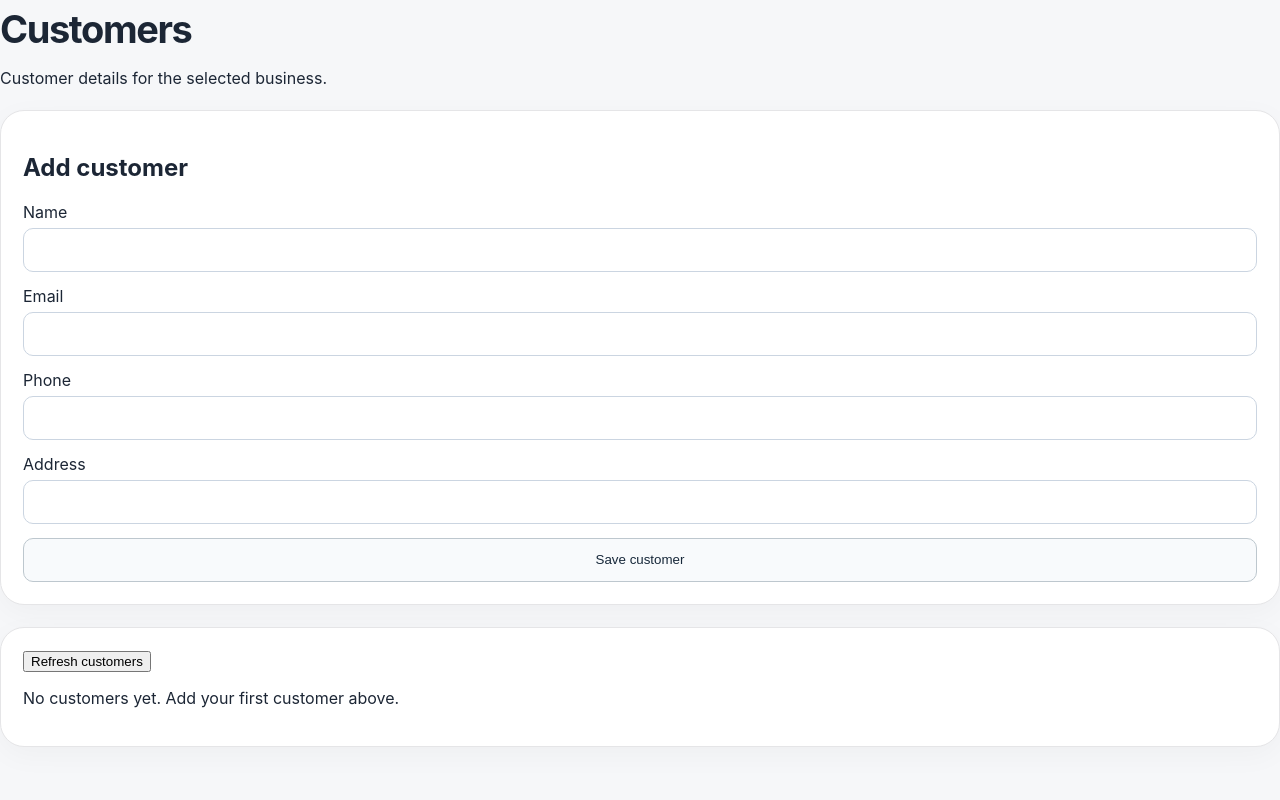
Scenario: customer form persists details, retains failures and supports editing and archiving
Expected: the text "No customers yet. Add your first customer above." is shown, [23,688,399,708]
In the field labelled "Name": (640, 250) [23,228,1257,272], type "Alex Taylor"
In the field labelled "Email": (640, 334) [23,312,1257,356], type "alex@example.com"
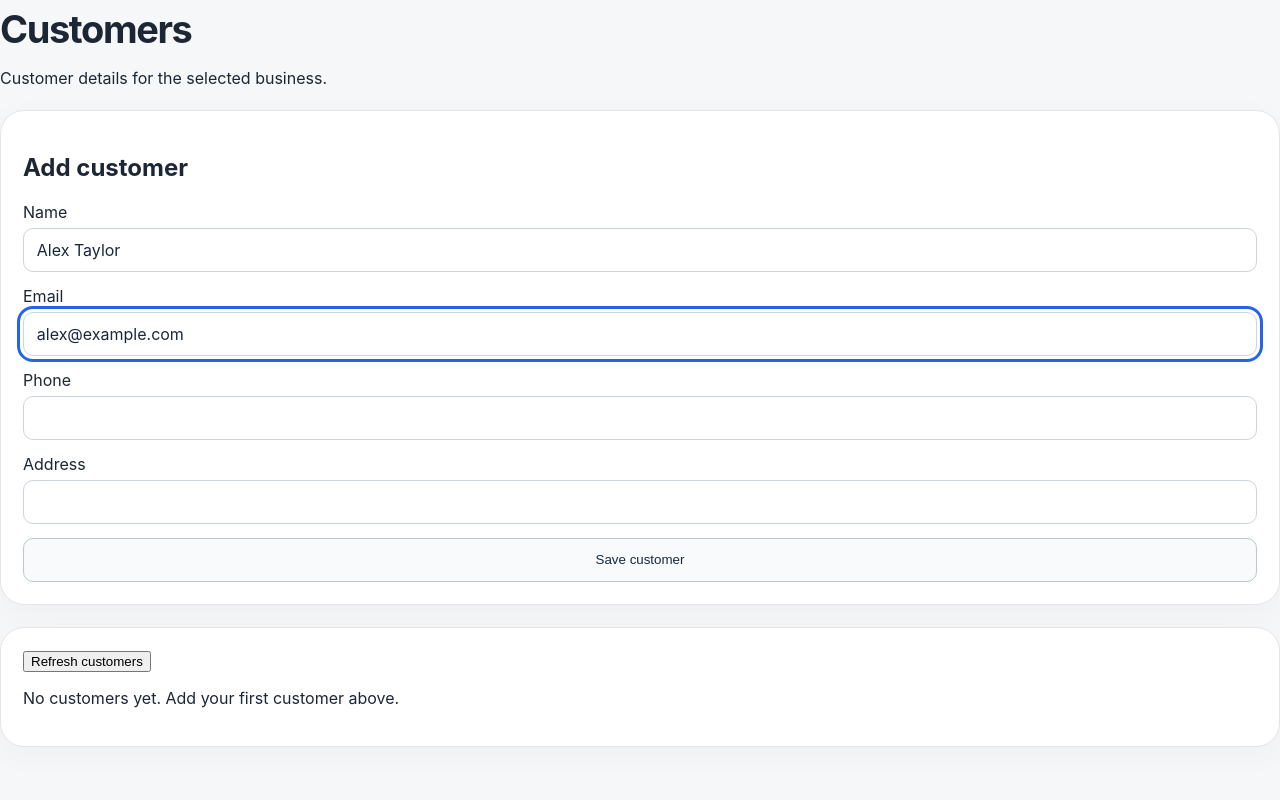
Click the button "Save customer": (640, 560) [23,538,1257,582]
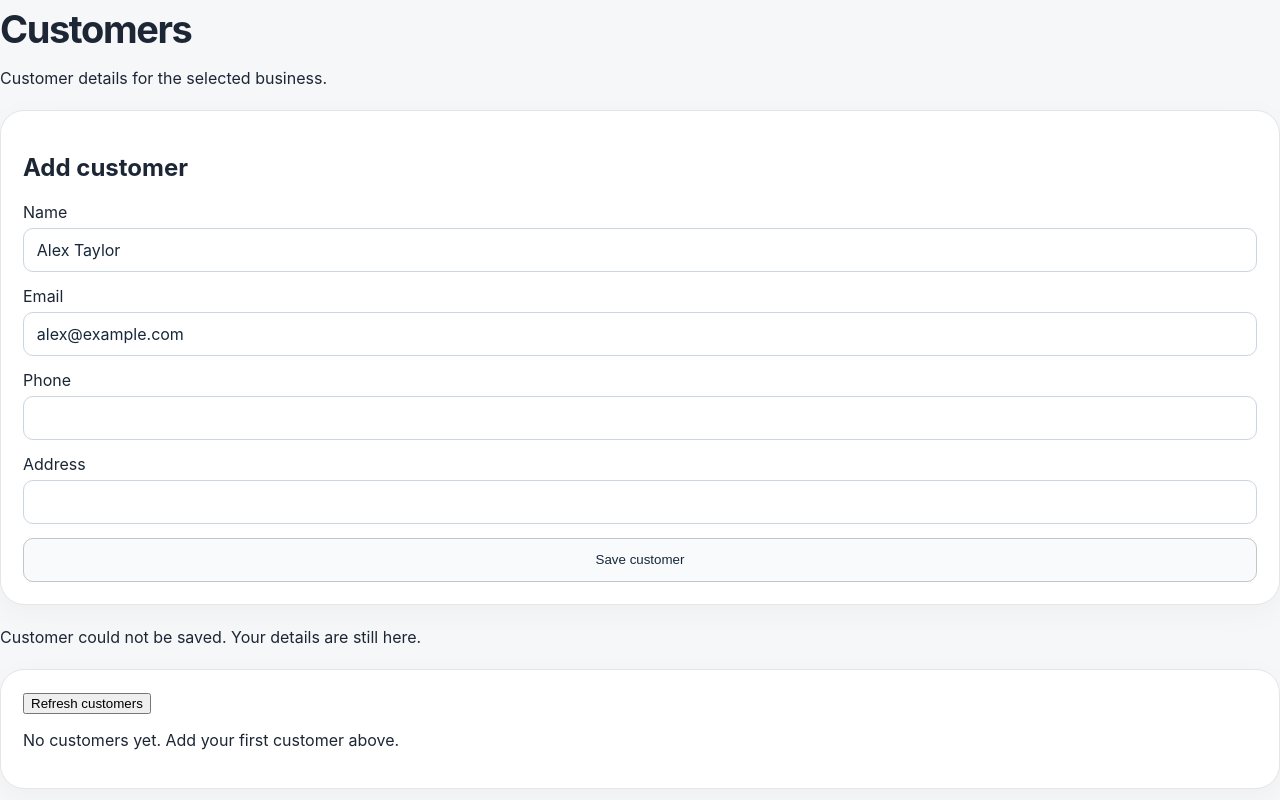
Result: the text "Customer could not be saved. Your details are still here." is shown at [0,627,421,647]
Click the button "Save customer": (640, 560) [23,538,1257,582]
(page scrolled)
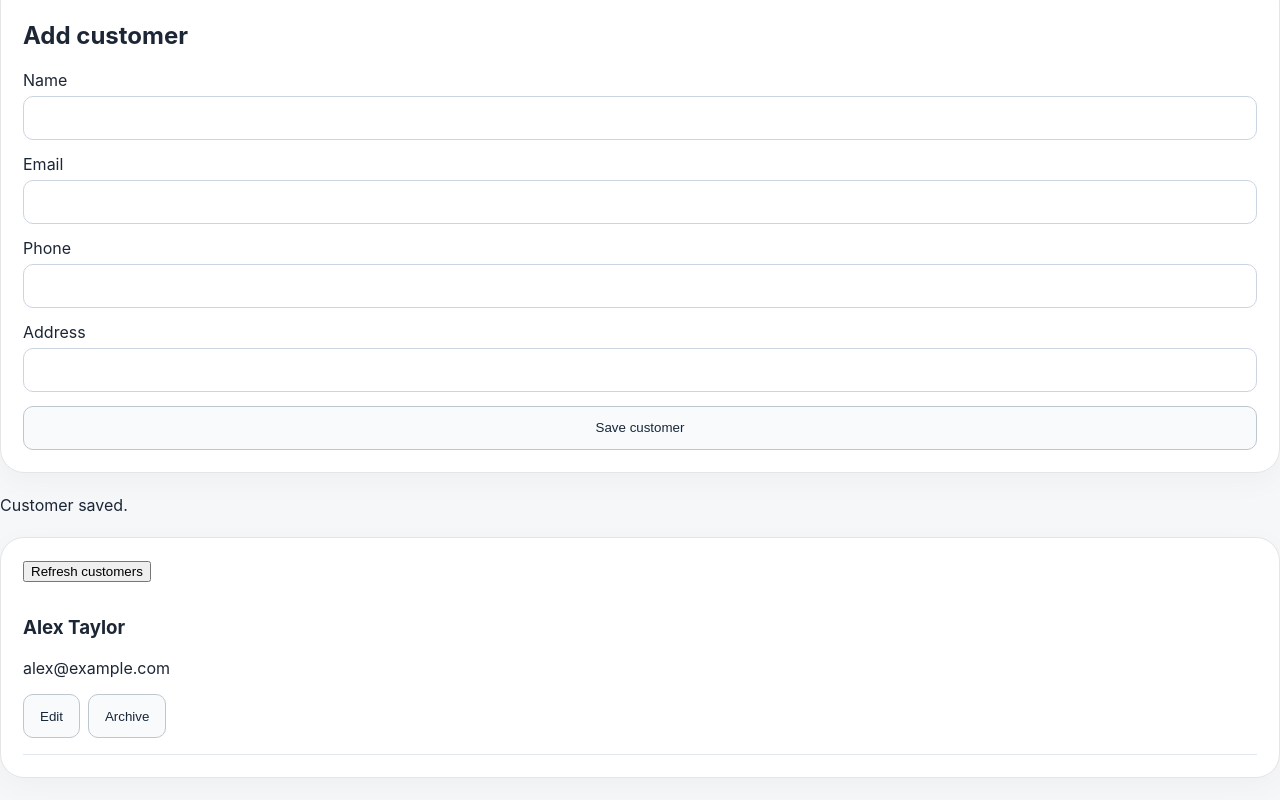
Result: the heading "Alex Taylor" is shown at [23,616,125,640]
Click the button "Edit": (52, 716) [23,694,80,738]
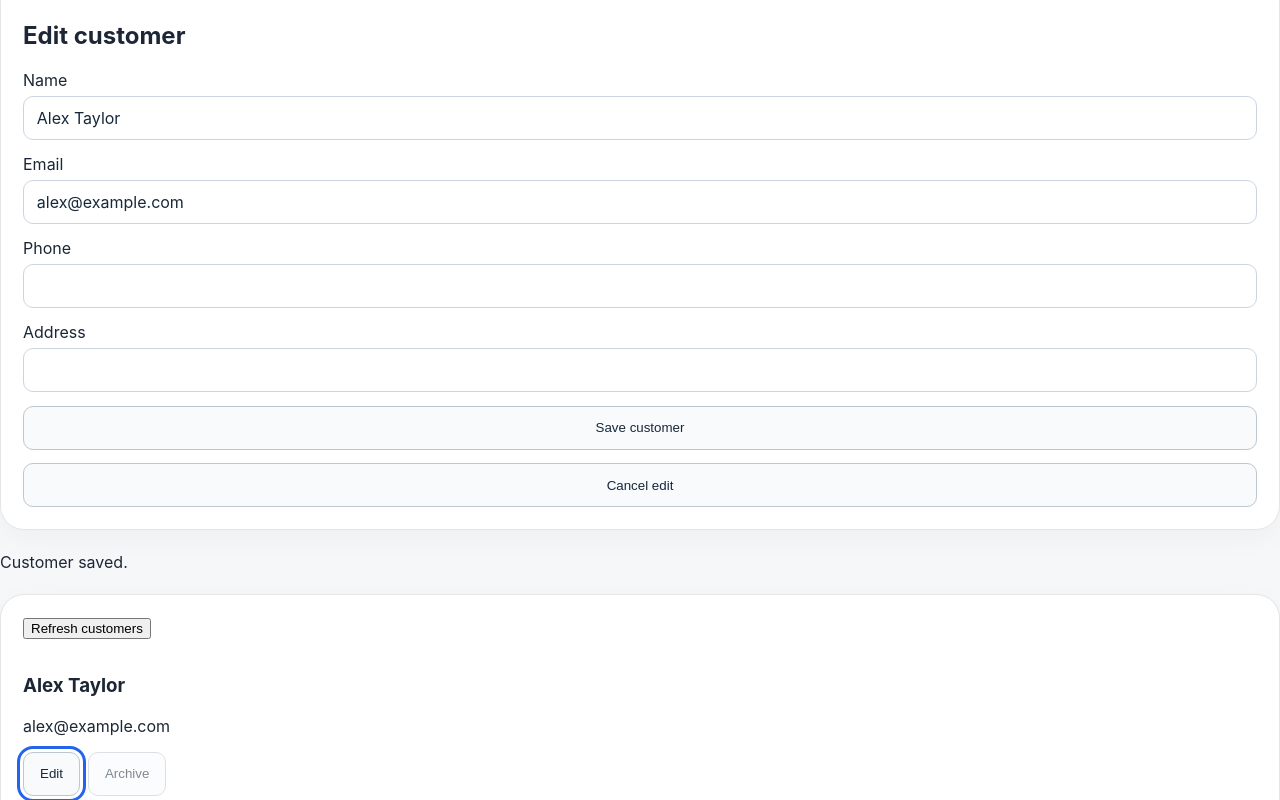
Click the button "Cancel edit": (640, 485) [23,463,1257,507]
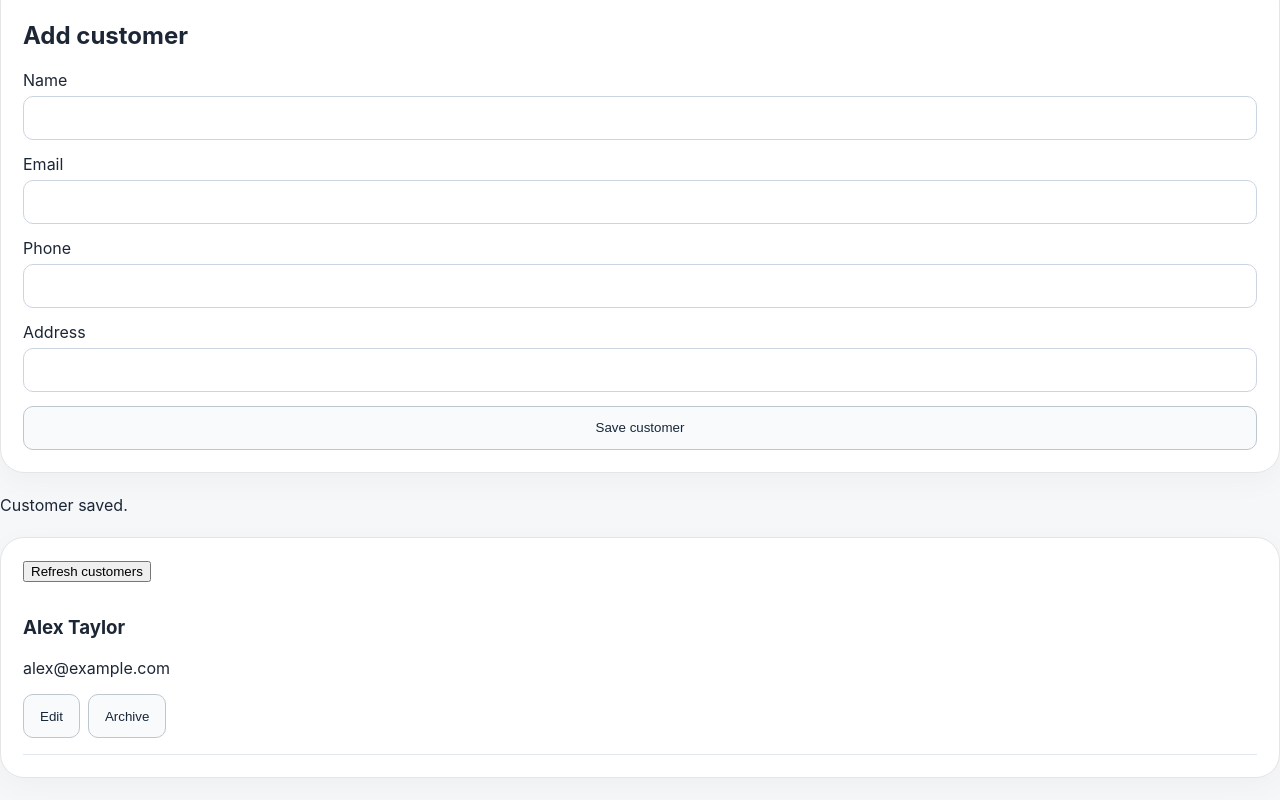
Click the button "Archive": (127, 716) [88,694,166,738]
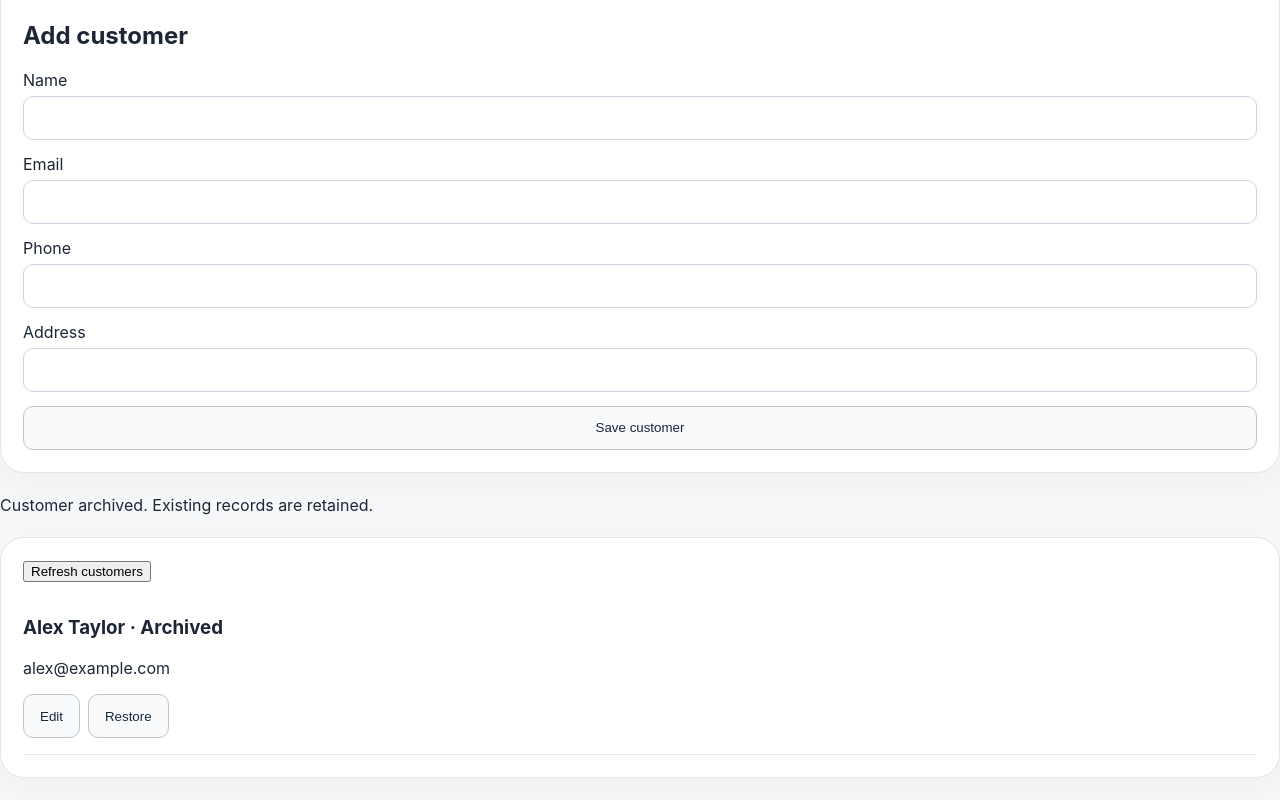
Result: the heading "Alex Taylor · Archived" is shown at [23,616,223,640]
